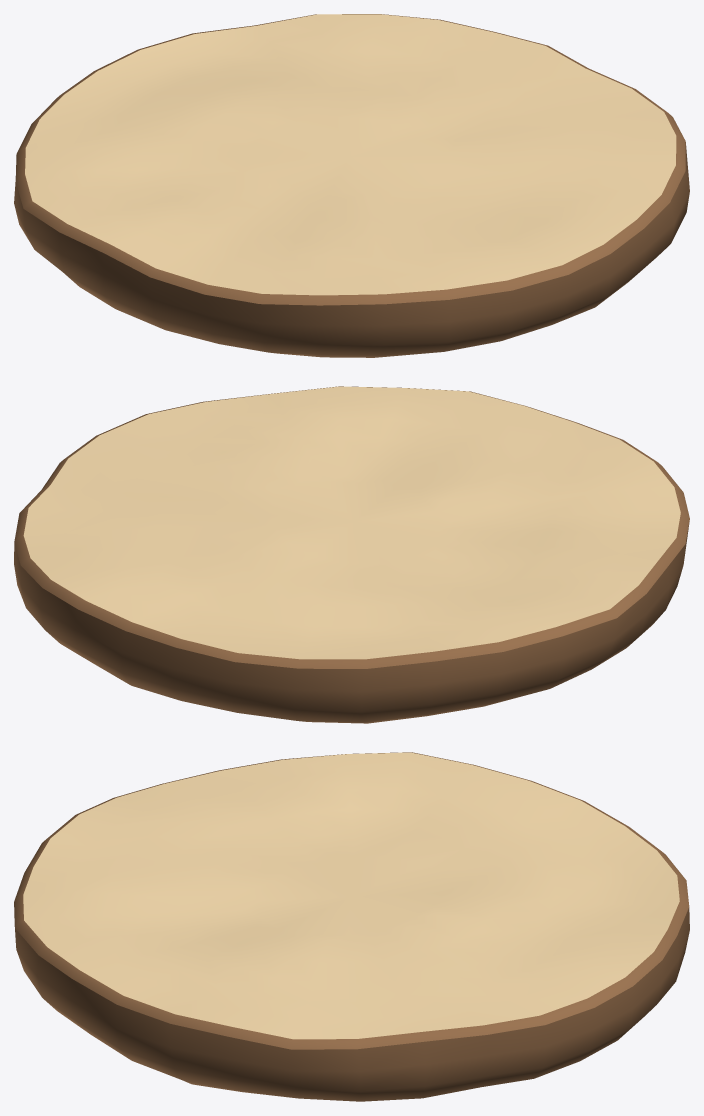
The model's file is bun_bottom.FBX.
The picture shows the model from 3 angles, top to bottom: view 1: azimuth 30°, elevation 25°; view 2: azimuth 150°, elevation 25°; view 3: azimuth 270°, elevation 25°; orthographic projection.
Visible parts, largest first — view 1: bun_bottom; view 2: bun_bottom; view 3: bun_bottom.
Boxes of the visible parts, <box> form: bun_bottom: <box>14,14,689,357</box>; bun_bottom: <box>14,386,689,723</box>; bun_bottom: <box>14,752,689,1101</box>.
Size of the model in its own units: 19.76 by 3.07 by 19.64.
